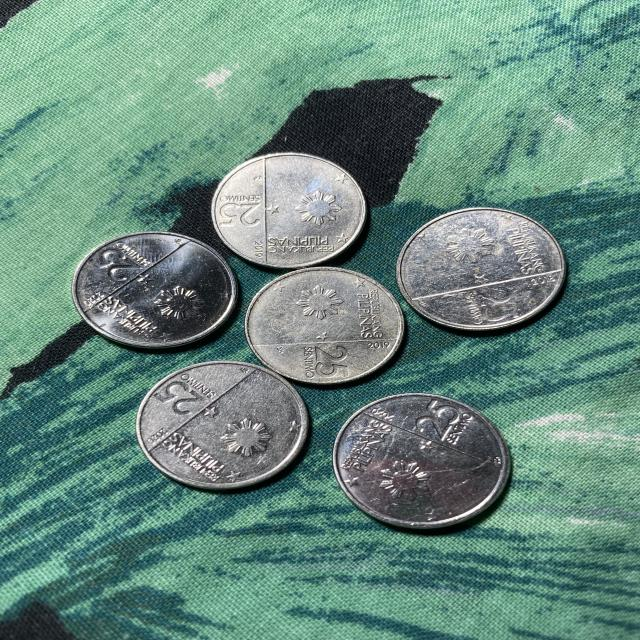25Cent_New_Front: (416, 401, 462, 439), (156, 382, 204, 417), (91, 250, 144, 280), (479, 288, 523, 320), (312, 344, 351, 378), (219, 202, 264, 229)
